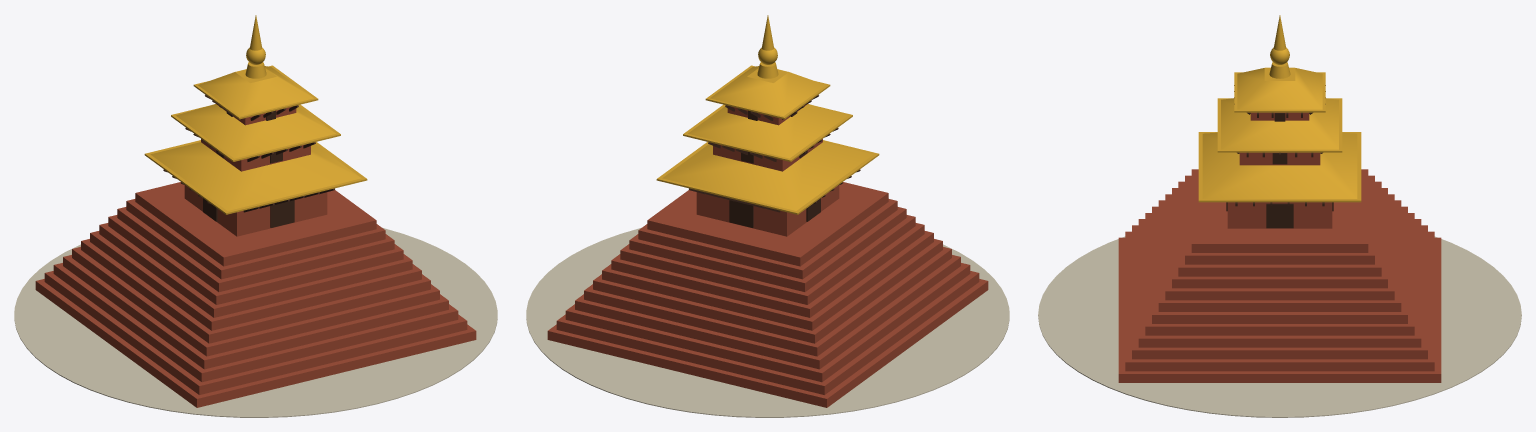
The model's file is taleju-temple.gltf.
3 renders of one model, left to right at view 1: azimuth 30°, elevation 25°; view 2: azimuth 150°, elevation 25°; view 3: azimuth 270°, elevation 25°, orthographic.
Parts seen in each view (by area): view 1: ground, object 12, object 42, object 1, object 2, object 3, object 4, object 5, object 6, object 7, object 69, object 8 (+10 smaller); view 2: ground, object 12, object 42, object 1, object 2, object 3, object 4, object 5, object 6, object 7, object 69, object 8 (+10 smaller); view 3: ground, object 42, object 12, object 1, object 2, object 3, object 4, object 5, object 6, object 7, object 69, object 8 (+10 smaller).
Boxes of the visible parts, box(x1,y1,x2,y2) form: ground: box(14, 228, 497, 417); object 12: box(135, 182, 376, 266); object 42: box(150, 142, 361, 210); object 1: box(35, 279, 476, 407); object 2: box(44, 271, 467, 394); object 3: box(53, 263, 458, 382); object 4: box(63, 255, 448, 369); object 5: box(72, 247, 439, 356); object 6: box(81, 239, 430, 343); object 7: box(90, 231, 421, 330); object 69: box(176, 104, 335, 158); object 8: box(99, 223, 412, 317); ground: box(526, 228, 1009, 417); object 12: box(647, 182, 888, 266); object 42: box(662, 142, 873, 210); object 1: box(547, 279, 988, 407); object 2: box(556, 271, 979, 394); object 3: box(565, 263, 970, 382); object 4: box(575, 255, 960, 369); object 5: box(584, 247, 951, 356); object 6: box(593, 239, 942, 343); object 7: box(602, 231, 933, 330); object 69: box(688, 104, 847, 158); object 8: box(611, 223, 924, 317); ground: box(1038, 236, 1521, 417); object 42: box(1202, 132, 1357, 198); object 12: box(1191, 169, 1368, 252); object 1: box(1118, 237, 1441, 382); object 2: box(1125, 231, 1434, 371); object 3: box(1132, 225, 1427, 359); object 4: box(1138, 219, 1421, 347); object 5: box(1145, 213, 1414, 335); object 6: box(1152, 206, 1407, 323); object 7: box(1158, 200, 1401, 311); object 69: box(1221, 98, 1338, 149); object 8: box(1165, 194, 1394, 300).
Size of the model in its own units: 51 by 35.1 by 51.
